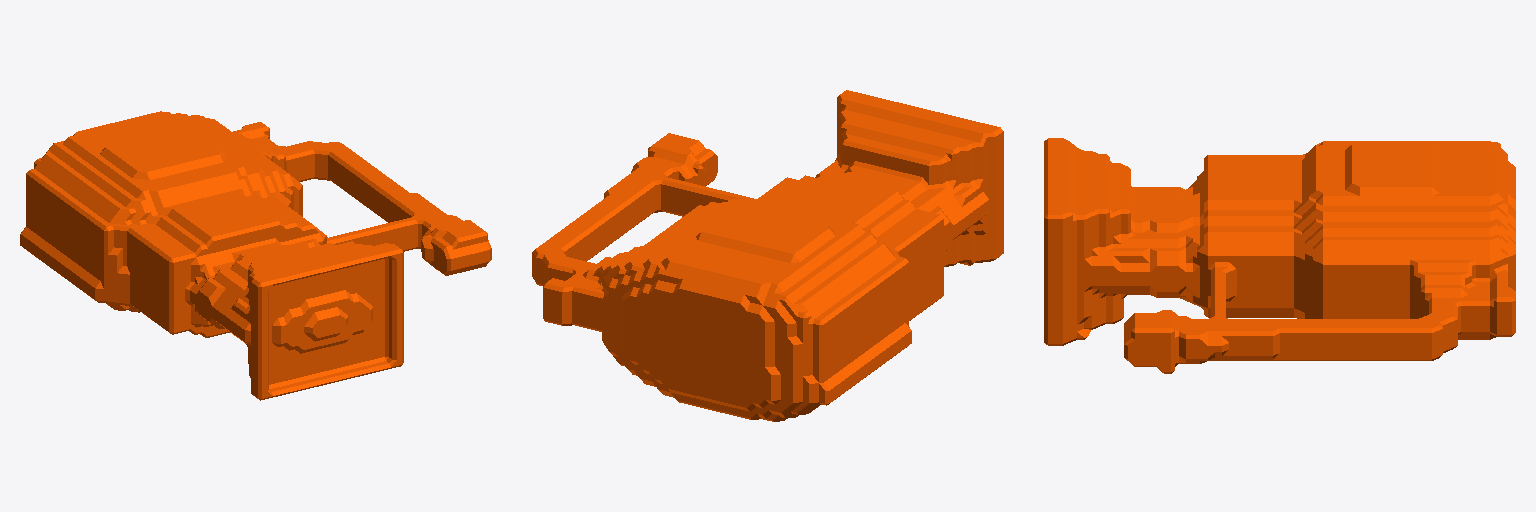
robot.urdf — Camera_brown:
<robot name="Camera_brown">
   <material name="obj_color">
      <color rgba="1.0 0.423529411765 0.0392156862745 1.0" />
   </material>
   <link name="top">
      <inertial>
         <origin rpy="0.0001734648783395463 0.000417802002937959 0.0005279643148356809" xyz="-0.006972203025672265 0.009589470888162819 -9.92130102173201e-05" />
         <mass value="0.24875" />
         <inertia ixx="0.0004176800616682769" ixy="5.530459250172113e-06" ixz="-6.482014839602894e-07" iyy="0.0001736011880250383" iyz="1.966062461583767e-06" izz="0.0005279499464198711" />
      </inertial>
      <visual>
         <origin rpy="0 0 0" xyz="0 0 0" />
         <geometry>
            <mesh filename="top_watertight_tiny.stl" scale="1 1 1" />
         </geometry>
         <material name="obj_color" />
      </visual>
      <collision>
         <origin rpy="0 0 0" xyz="0 0 0" />
         <geometry>
            <mesh filename="top_watertight_tiny.obj" scale="1 1 1" />
         </geometry>
      </collision>
   </link>
   <link name="bottom">
      <inertial>
         <origin rpy="1.633333333194242e-08 1.633333333194243e-08 1.633333333357667e-08" xyz="0.3464080000000008 0.3464080000000008 0.3464080000000008" />
         <mass value="0.0009800000000000017" />
         <inertia ixx="1.633333333248717e-08" ixy="5.447480642029219e-19" ixz="5.447480642029219e-19" iyy="1.633333333248717e-08" iyz="5.447480642029219e-19" izz="1.633333333248717e-08" />
      </inertial>
      <visual>
         <origin rpy="0 0 0" xyz="0 0 0" />
         <geometry>
            <mesh filename="bottom_watertight_tiny.stl" scale="1 1 1" />
         </geometry>
         <material name="obj_color" />
      </visual>
   </link>
   <link name="world" />
   <joint name="world_to_base" type="fixed">
      <origin xyz="0 0 0" />
      <axis xyz="0 0 0" />
      <parent link="world" />
      <child link="bottom" />
   </joint>
   <joint name="rotation" type="revolute">
      <origin xyz="0 0 0" />
      <axis xyz="0 0 -1" />
      <parent link="bottom" />
      <child link="top" />
      <dynamics damping="1.0" friction="1.0" />
      <limit effort="0.1" velocity="0.1" lower="0" upper="0.001" />
   </joint>
</robot>

--- Render facts (derived) ---
3 views of the same robot in one strip: view 1: azimuth 30°, elevation 25°; view 2: azimuth 150°, elevation 25°; view 3: azimuth 270°, elevation 25° (orthographic).
Robot: Camera_brown — 3 links, 2 joints (1 revolute, 1 fixed); root link world; default pose: all joints at 0.
Visible links, largest first — view 1: top; view 2: top; view 3: top.
Link boxes in pixels (x1=…): top: x1=20, y1=111, x2=491, y2=400; top: x1=532, y1=90, x2=1003, y2=421; top: x1=1044, y1=138, x2=1515, y2=373.
Size in the robot's own frame: 0.1216 by 0.1437 by 0.0486 metres.
Meshes: 2 distinct files referenced, 1 mesh visuals loaded (1 binary STL); not drawn: 1 (reference not matched to a file when rendering).
